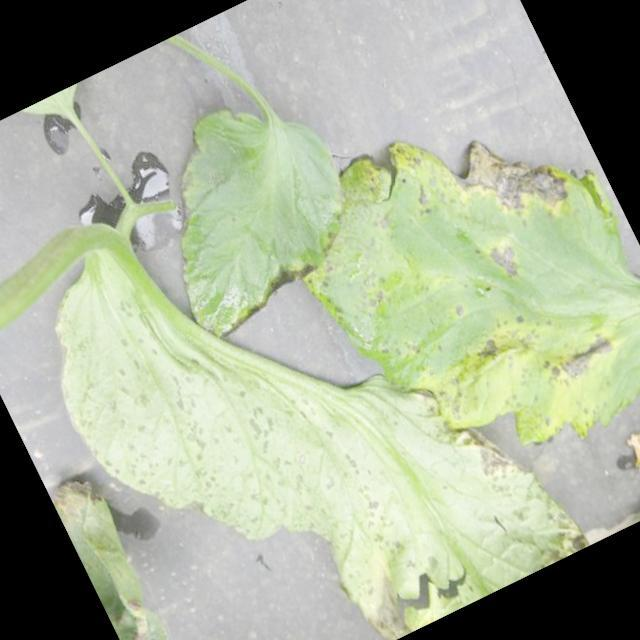Tomato bacterial spot leaf: (255, 67, 640, 522)
